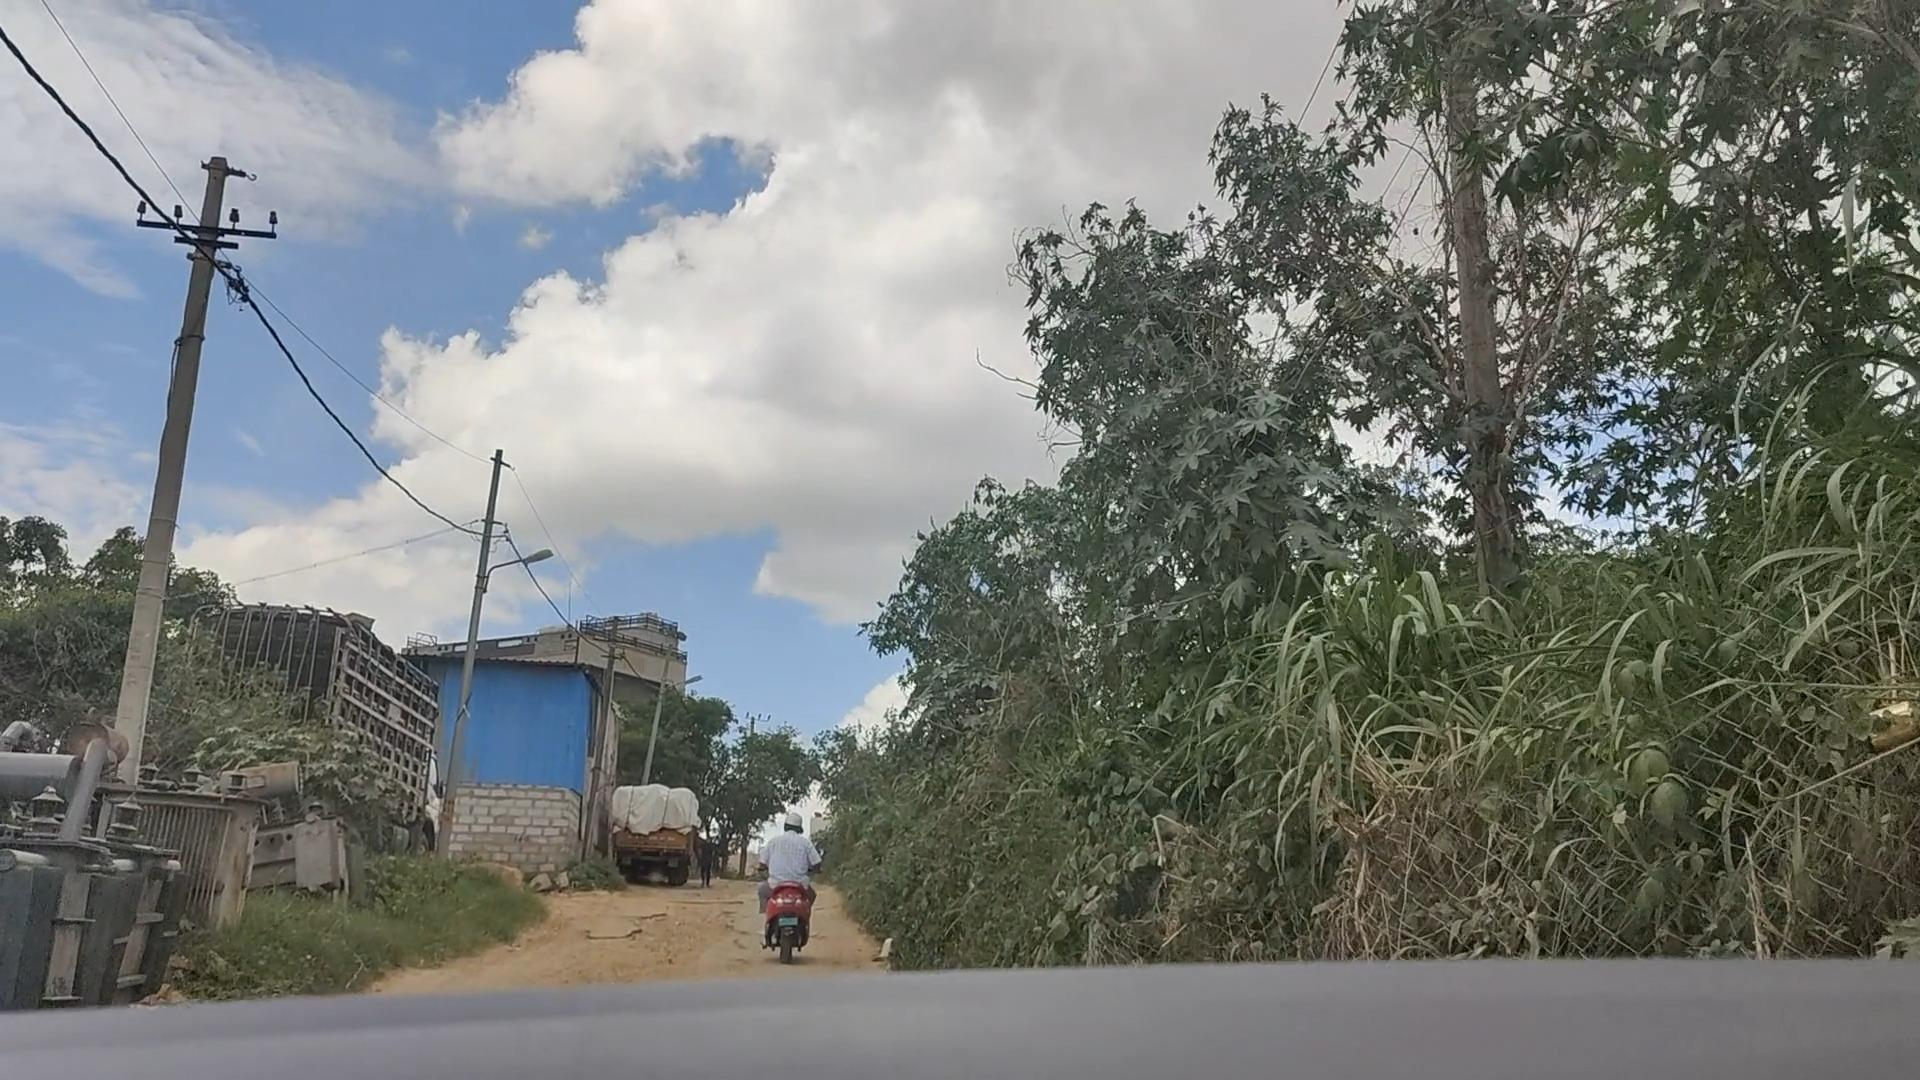HMV: (603, 774, 703, 893)
UnsurfacedRoad: (488, 897, 733, 994)
